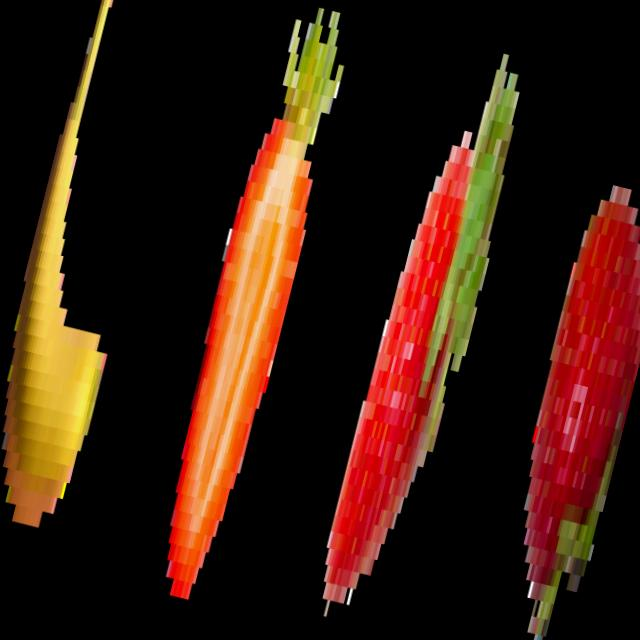bananas: (0, 0, 201, 549)
strawberry: (135, 0, 364, 619), (306, 47, 538, 636), (477, 163, 640, 640)
